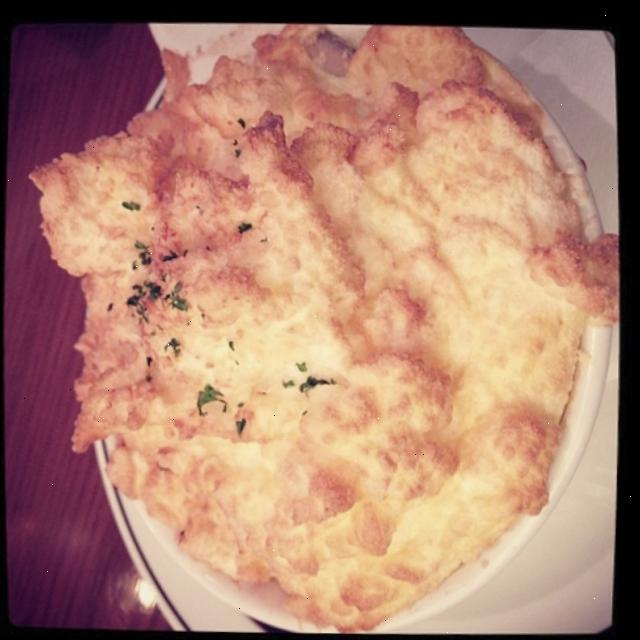米饭主食: (65, 15, 595, 618)
